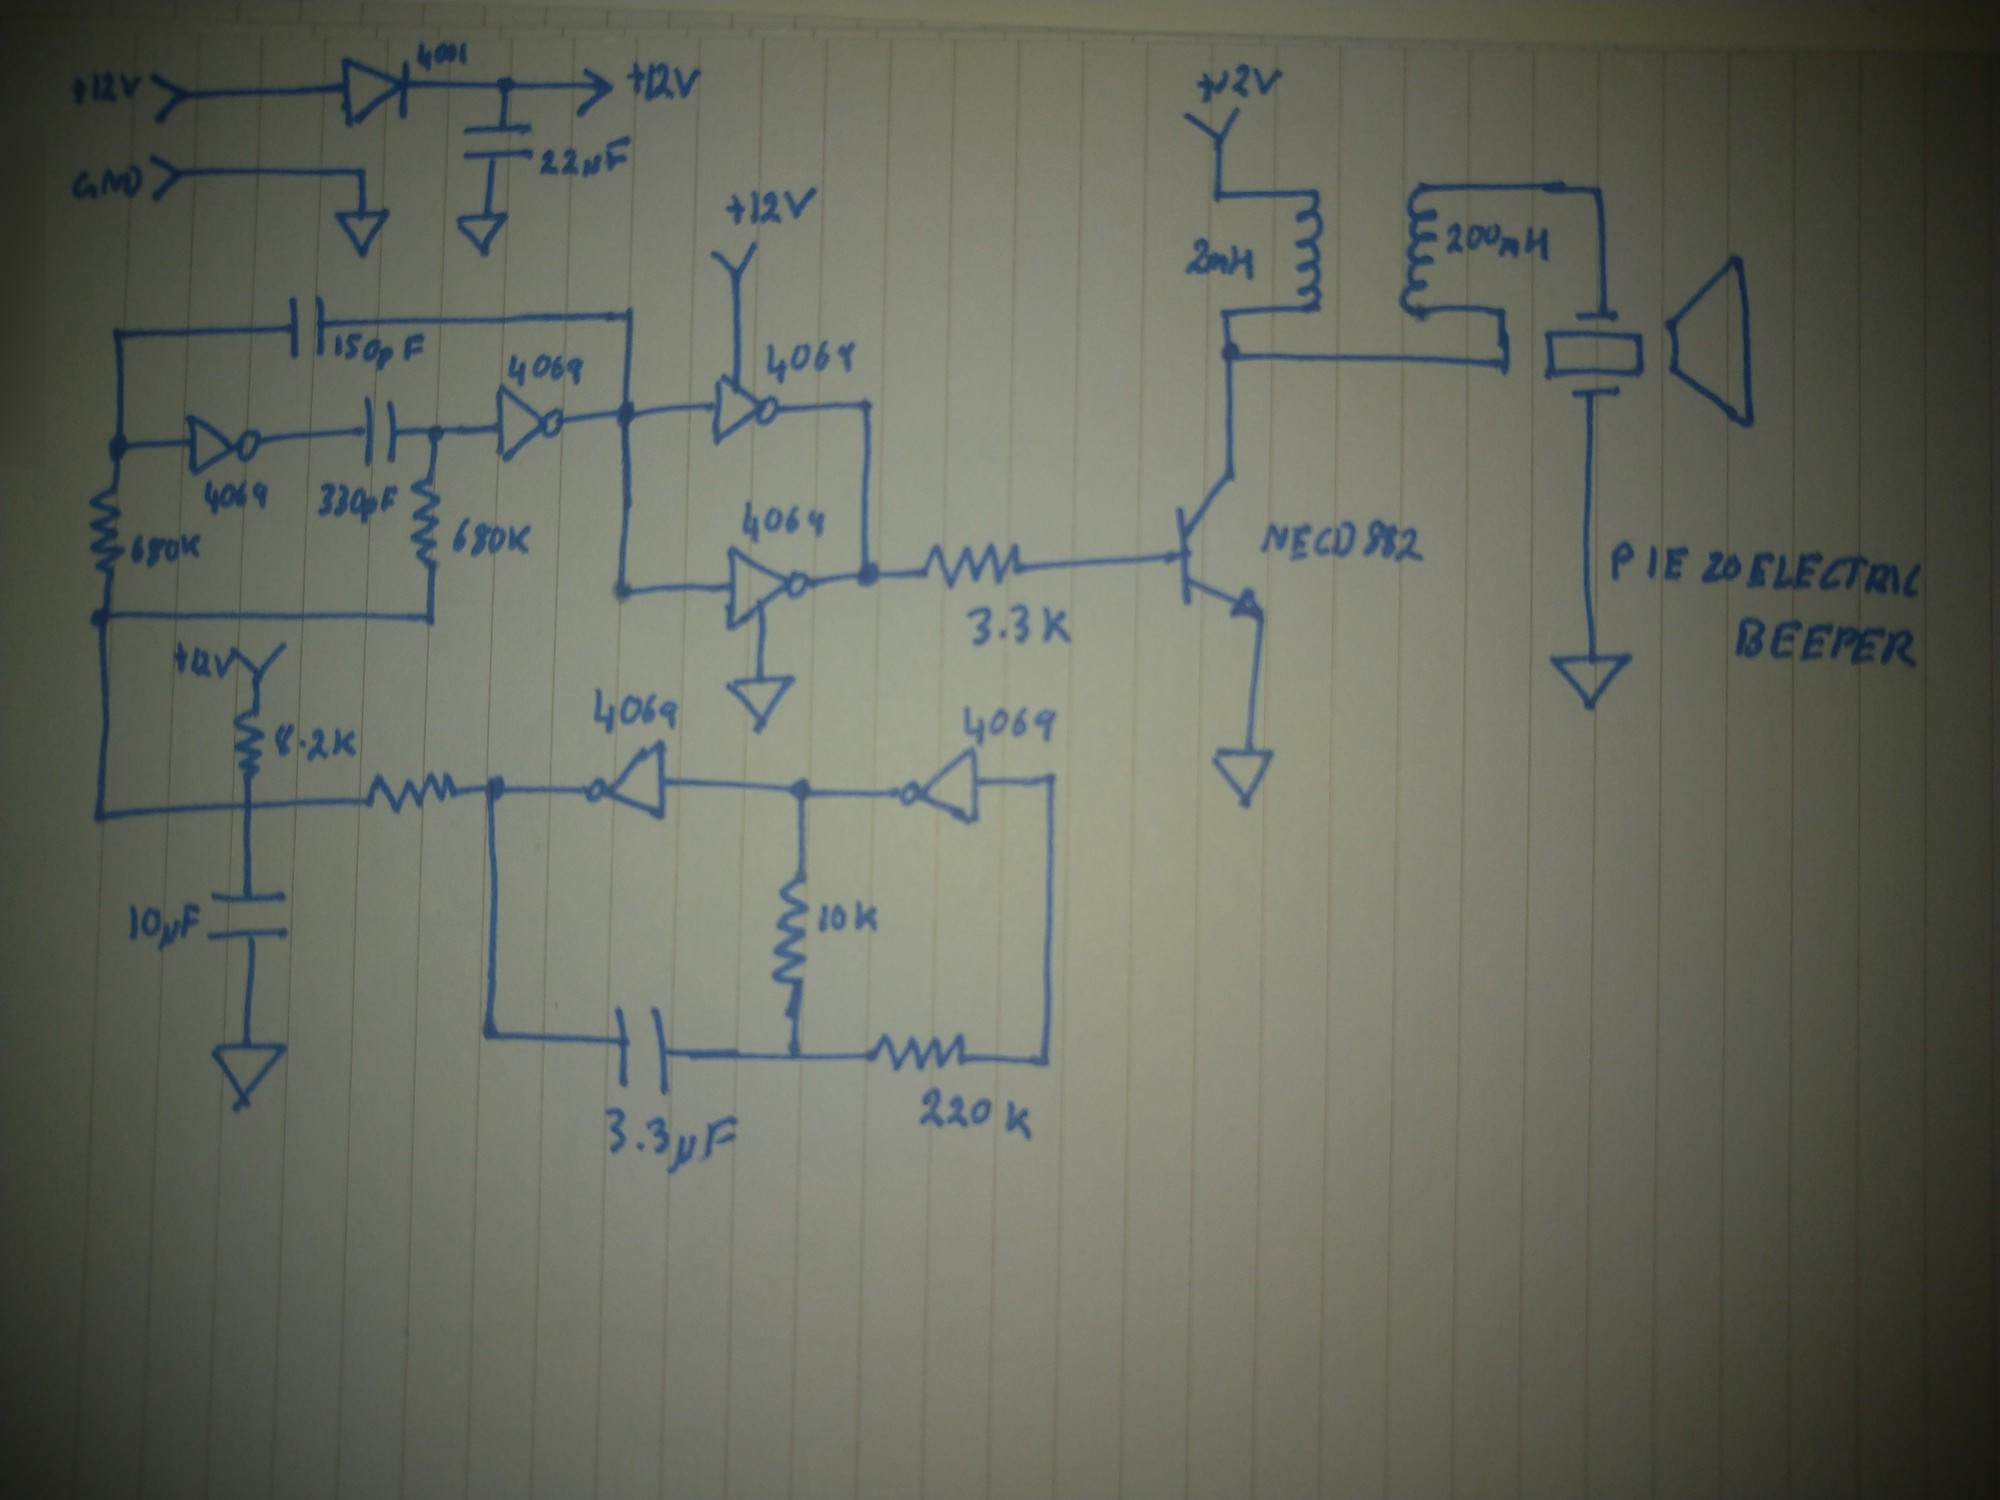capacitor.unpolarized: (606, 1001, 677, 1101), (205, 882, 293, 944), (457, 120, 537, 169), (283, 293, 332, 362), (357, 391, 402, 466)
crossover: (230, 789, 271, 822)
diode: (331, 54, 420, 132)
gnd: (205, 1034, 298, 1120), (1543, 648, 1638, 714), (720, 666, 803, 736), (1208, 745, 1280, 813), (332, 205, 394, 262), (454, 208, 513, 260)
inductor: (1400, 173, 1441, 323), (1287, 176, 1329, 320)
junction: (606, 395, 655, 436), (468, 767, 520, 805), (96, 424, 139, 468), (778, 767, 824, 808), (846, 555, 885, 596), (465, 1015, 509, 1051), (82, 597, 121, 637), (598, 574, 639, 608), (417, 414, 454, 451), (1022, 1045, 1061, 1078), (487, 68, 523, 102), (849, 388, 887, 421), (102, 320, 142, 351), (348, 154, 384, 187), (614, 299, 650, 332), (79, 804, 117, 834), (1216, 336, 1249, 369), (776, 1040, 813, 1070), (413, 603, 449, 633), (1036, 763, 1074, 791), (1578, 178, 1614, 206), (1490, 351, 1521, 381), (1487, 296, 1517, 325), (1211, 301, 1241, 325), (1205, 183, 1231, 206)
not: (717, 540, 814, 632), (887, 745, 987, 834), (583, 737, 680, 826), (490, 384, 572, 465), (702, 369, 787, 444), (180, 408, 265, 476)
resistor: (767, 863, 816, 993), (915, 542, 1028, 591), (350, 766, 468, 811), (858, 1030, 973, 1076), (79, 479, 126, 588), (405, 470, 446, 583), (227, 695, 268, 785)
speaker: (1540, 254, 1764, 432)
terminal: (230, 637, 293, 692), (143, 69, 198, 126), (1173, 104, 1250, 143), (143, 147, 194, 205), (702, 236, 769, 277), (570, 65, 617, 121)
text: (1602, 536, 1924, 605), (1728, 610, 1923, 678), (1254, 507, 1433, 572), (602, 1101, 742, 1179), (1443, 213, 1564, 273), (912, 1084, 1035, 1142), (757, 332, 865, 391), (1187, 47, 1287, 109), (965, 600, 1076, 652), (735, 490, 835, 547), (620, 52, 710, 112), (584, 684, 680, 737), (956, 700, 1065, 747), (535, 134, 639, 183), (117, 898, 205, 953), (717, 183, 820, 228), (313, 477, 400, 529), (447, 514, 539, 562), (268, 718, 361, 766), (331, 328, 428, 372), (501, 347, 587, 391), (164, 637, 235, 689), (128, 528, 211, 572), (1183, 233, 1255, 284), (198, 477, 279, 522), (814, 897, 887, 941), (66, 68, 143, 107), (66, 162, 143, 202), (413, 36, 471, 76)
transistor: (1154, 462, 1269, 630)
